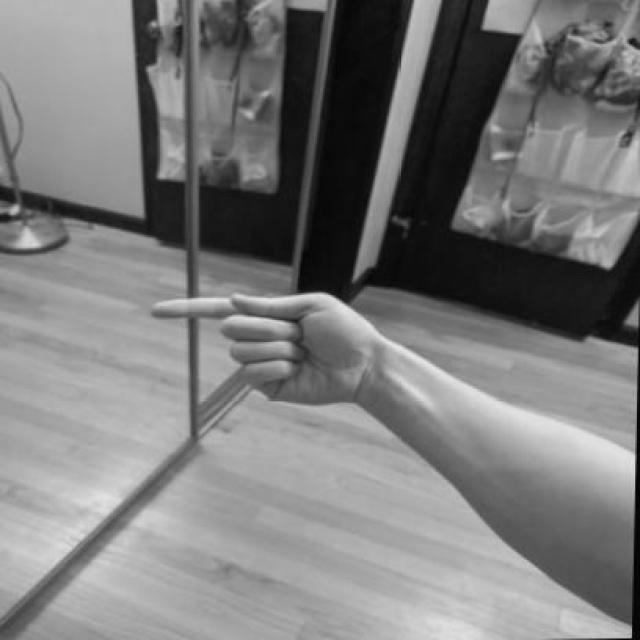G: (143, 286, 380, 412)
